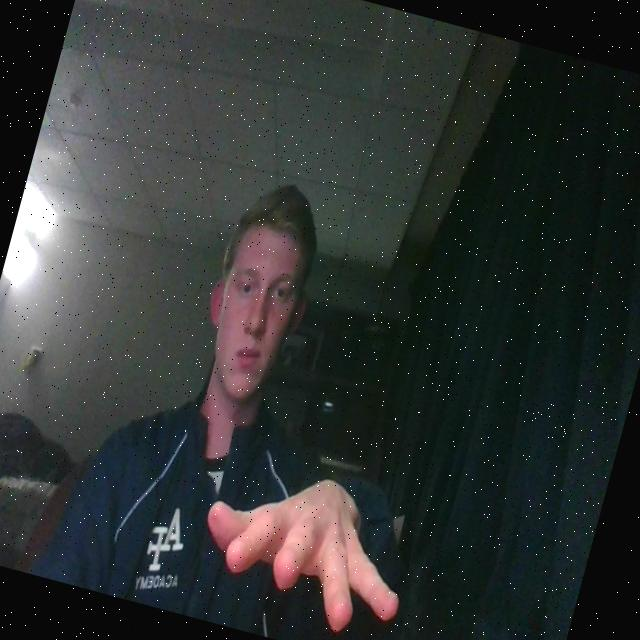paper: (181, 436, 434, 640)
